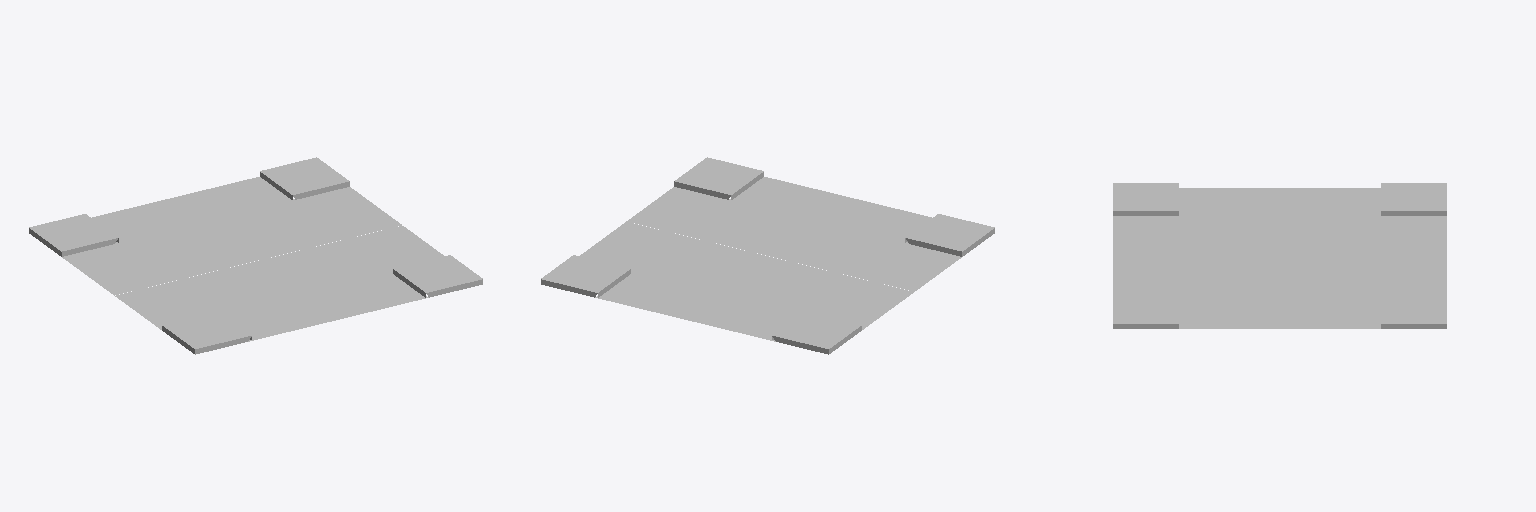
File: 4 way intersection.obj
3 views of the same model, side by side, from view 1: azimuth 30°, elevation 25°; view 2: azimuth 150°, elevation 25°; view 3: azimuth 270°, elevation 25° (orthographic).
Visible parts, largest first — view 1: Plane, Plane.002; view 2: Plane, Plane.002; view 3: Plane, Plane.002.
Part boxes in pixels (x1,y1,x2,y2): Plane: (29, 157, 482, 354); Plane.002: (110, 197, 401, 318); Plane: (541, 157, 994, 354); Plane.002: (621, 197, 913, 314); Plane: (1113, 183, 1446, 328); Plane.002: (1114, 188, 1445, 328).
Size of the model in its own units: 1 by 0.0177 by 1.